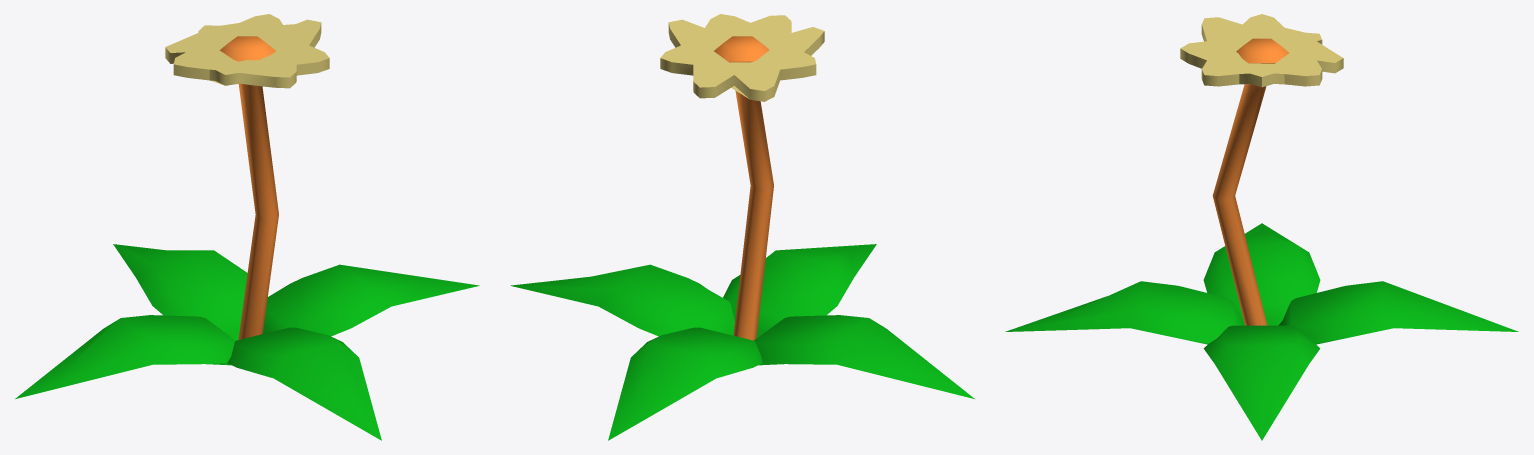
File: flower-white.fbx
The picture shows the model from 3 angles, left to right: view 1: azimuth 30°, elevation 25°; view 2: azimuth 150°, elevation 25°; view 3: azimuth 270°, elevation 25°; orthographic projection. The views are drawn at different scales.
Visible parts, largest first — view 1: flower-white; view 2: flower-white; view 3: flower-white.
Boxes of the visible parts, box(x1,y1,x2,y2) form: flower-white: box(15, 14, 479, 440); flower-white: box(510, 14, 974, 440); flower-white: box(1005, 14, 1518, 440).
Bounding box in the file's own units: 0.4324 × 0.2831 × 0.4324.
